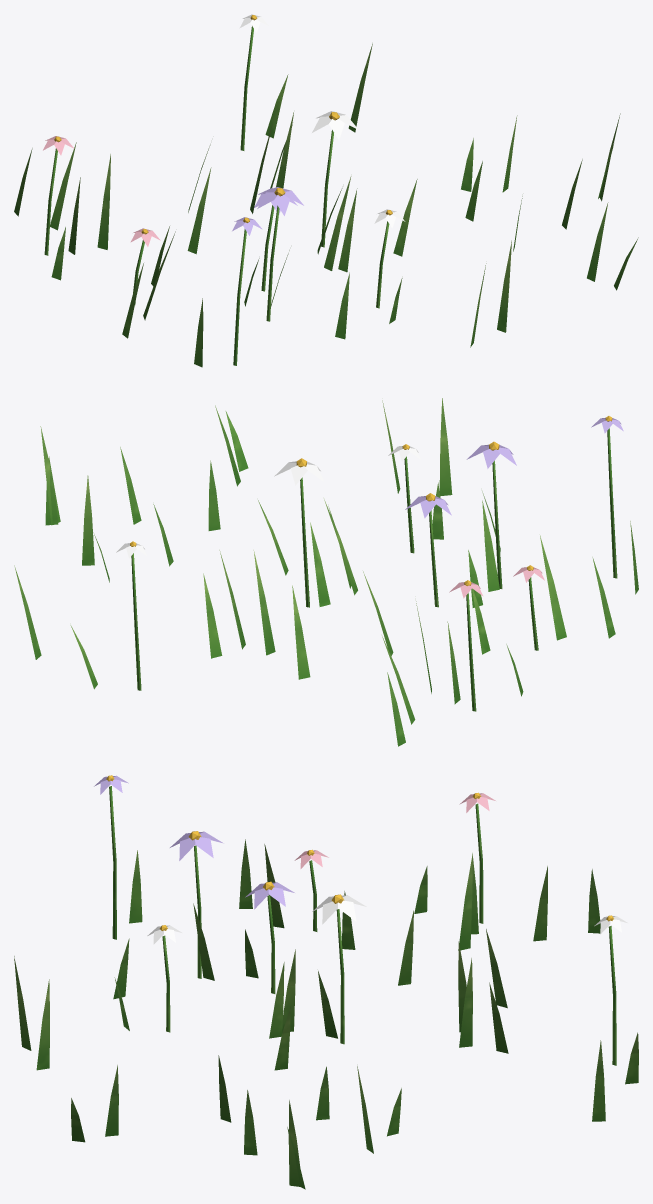
File: meadow_patch_sky_a.glb
The picture shows the model from 3 angles, top to bottom: view 1: azimuth 30°, elevation 25°; view 2: azimuth 150°, elevation 25°; view 3: azimuth 270°, elevation 25°; orthographic projection. The views are drawn at different scales.
Visible parts, largest first — view 1: meadow_patch_sky_a; view 2: meadow_patch_sky_a; view 3: meadow_patch_sky_a.
Boxes of the visible parts, x1=… form: meadow_patch_sky_a: x1=14, y1=14, x2=638, y2=367; meadow_patch_sky_a: x1=14, y1=398, x2=638, y2=746; meadow_patch_sky_a: x1=14, y1=775, x2=638, y2=1189.
Size of the model in its own units: 2.94 by 0.8025 by 2.7.
2 materials, 1 textured.
